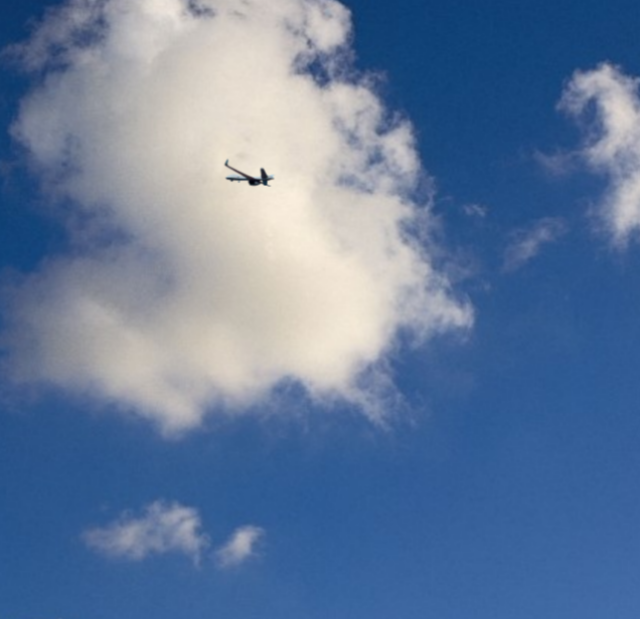military drone: (224, 158, 274, 187)
